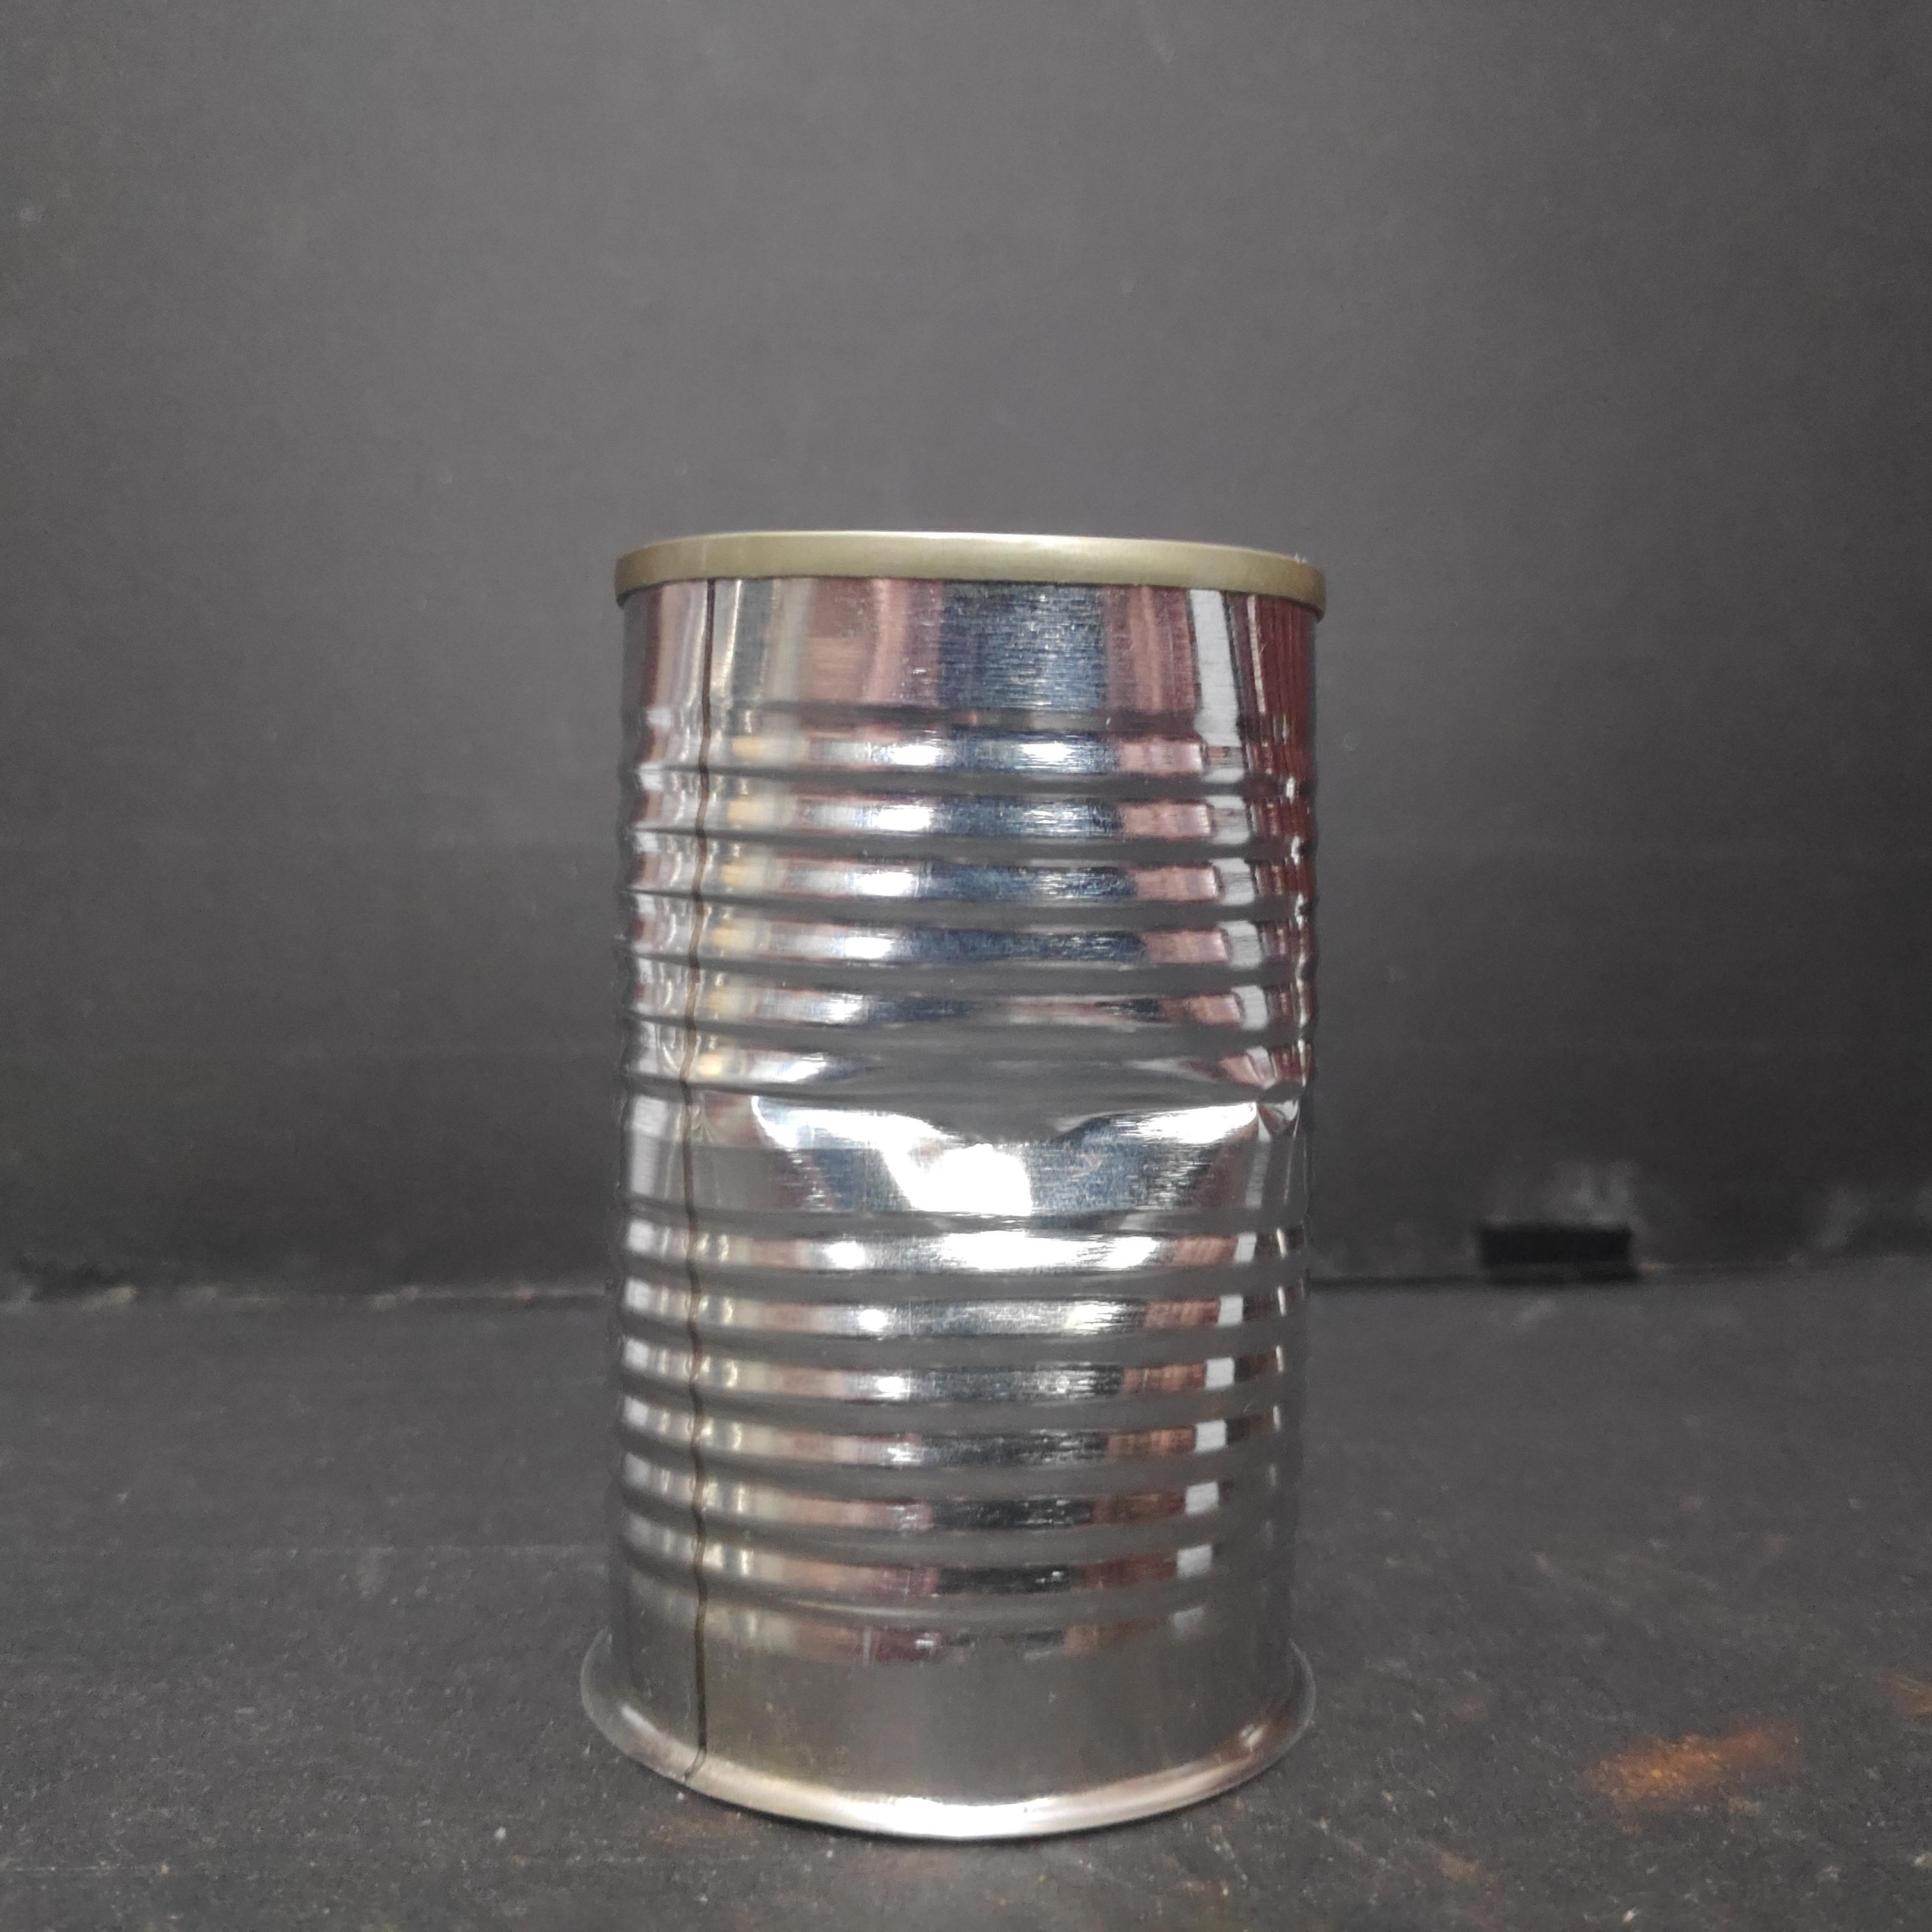Minor Defect: (593, 515, 1341, 1854)
